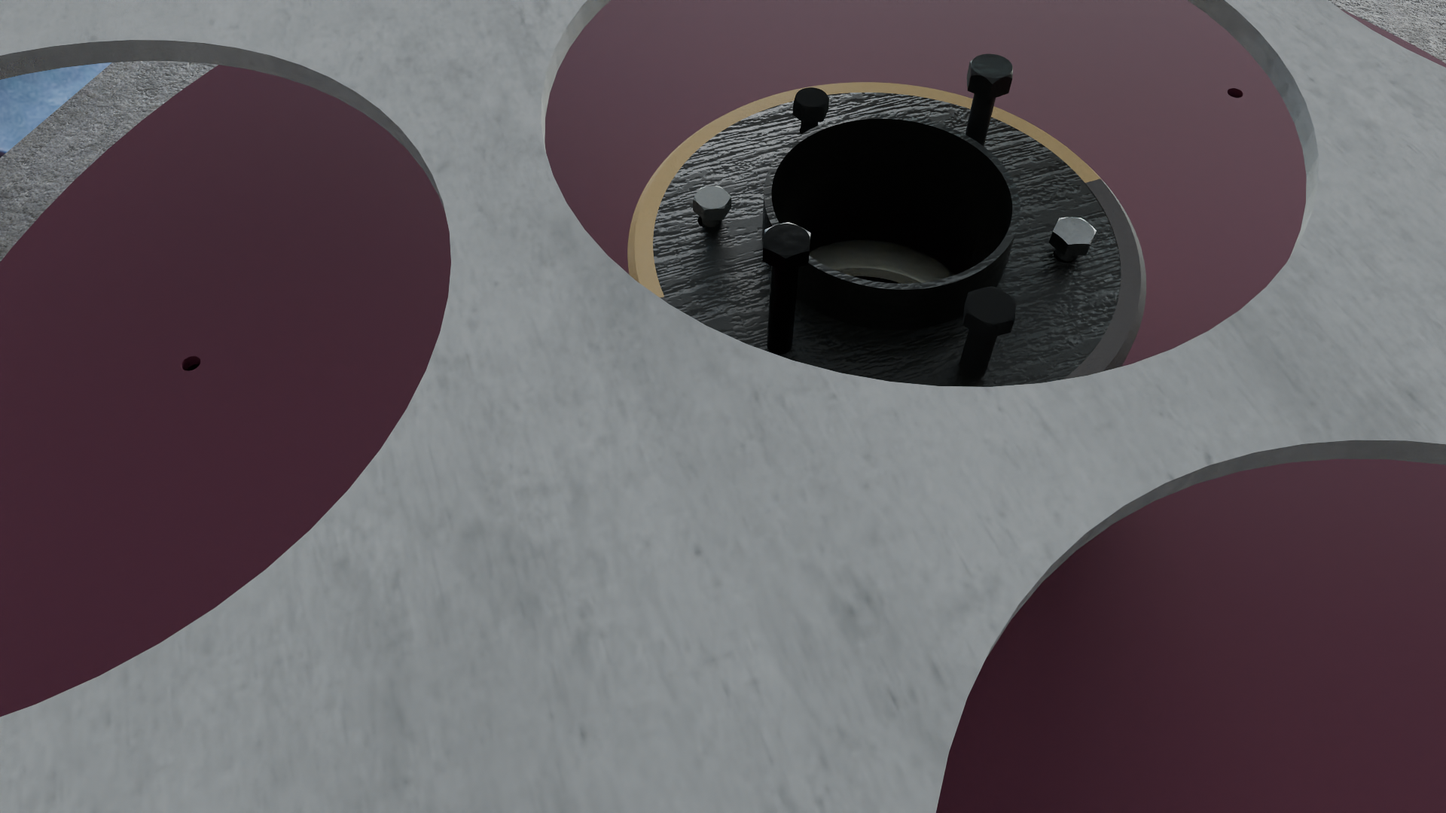bolt: (966, 286, 1016, 327), (763, 222, 810, 259), (971, 53, 1013, 84), (1053, 218, 1097, 245), (693, 186, 731, 211), (793, 87, 829, 111)
